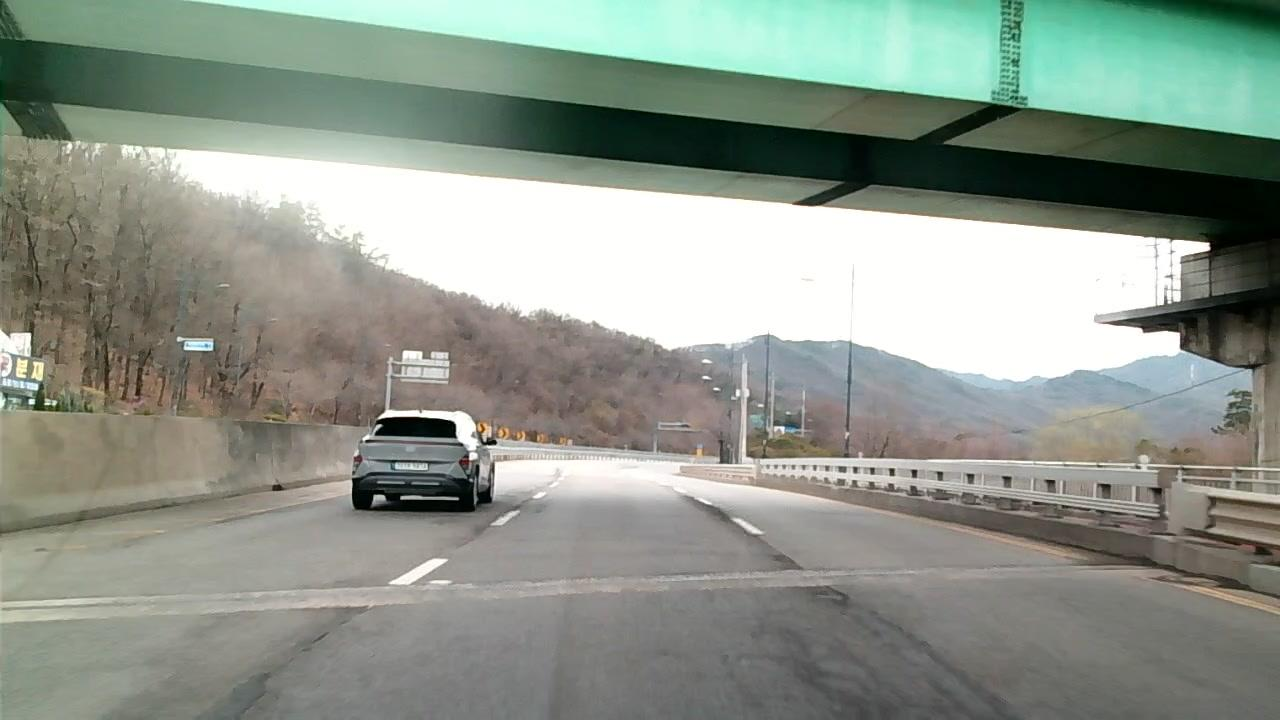vcrack: (236, 610, 364, 720), (825, 579, 950, 662), (754, 534, 806, 571), (454, 524, 490, 548)
